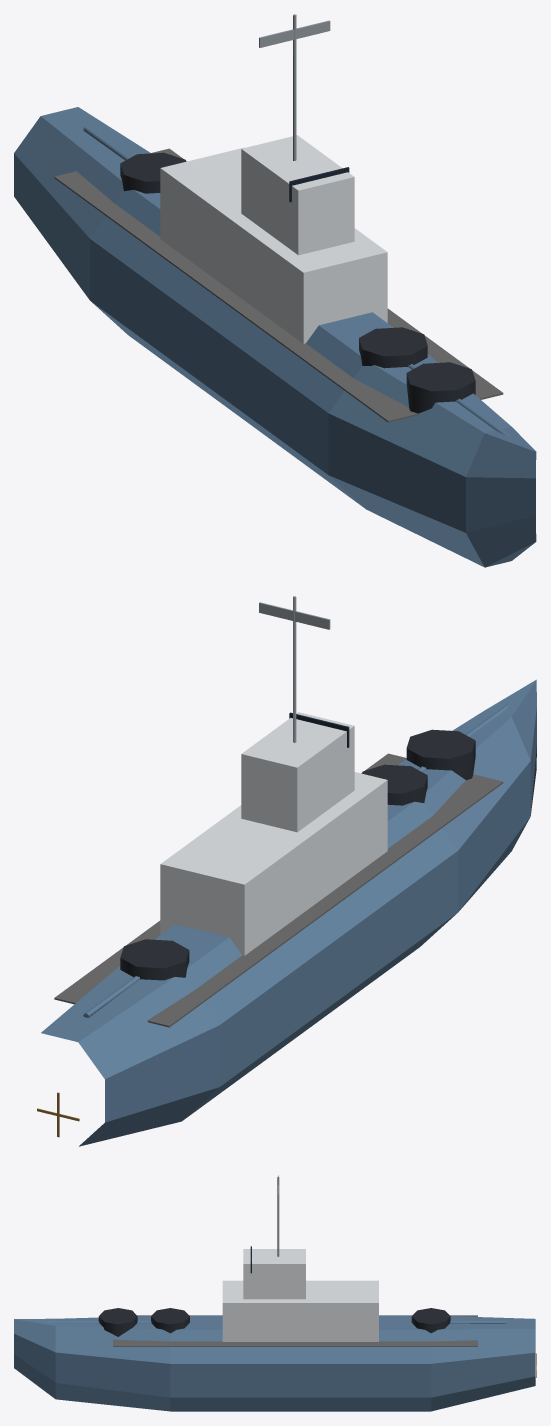
File: veh_naval_warship_a10.glb
3 views of the same model, one above another, from view 1: azimuth 30°, elevation 25°; view 2: azimuth 150°, elevation 25°; view 3: azimuth 270°, elevation 25° (orthographic). The views are drawn at different scales.
Visible parts, largest first — view 1: body, turret_0, turret_1, turret_2, radar; view 2: body, turret_0, turret_2, turret_1, radar; view 3: body, turret_0, turret_2, turret_1.
Part boxes in pixels (x1,y1,x2,y2): body: (14,14,536,567); turret_0: (406,362,510,436); turret_1: (359,327,460,403); turret_2: (83,126,186,193); radar: (259,20,330,47); body: (41,596,536,1146); turret_0: (406,703,509,780); turret_2: (83,939,189,1017); turret_1: (362,764,427,805); radar: (259,602,330,629); body: (14,1176,535,1411); turret_0: (43,1308,137,1336); turret_2: (411,1308,506,1333); turret_1: (96,1308,189,1333).
Size of what is drawn, in the model's own units: 6.86 by 21.02 by 43.83.
